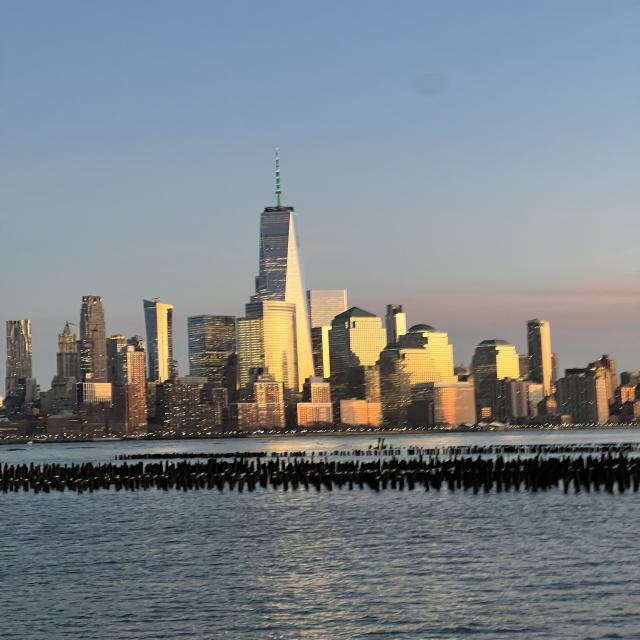WTC: (254, 148, 301, 302)
